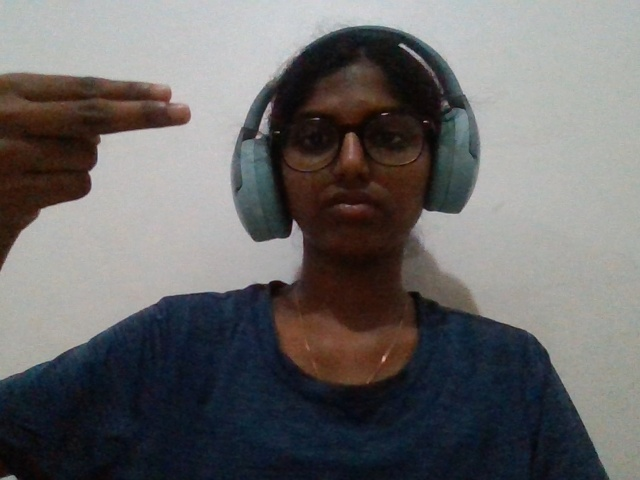H: (2, 48, 199, 327)
